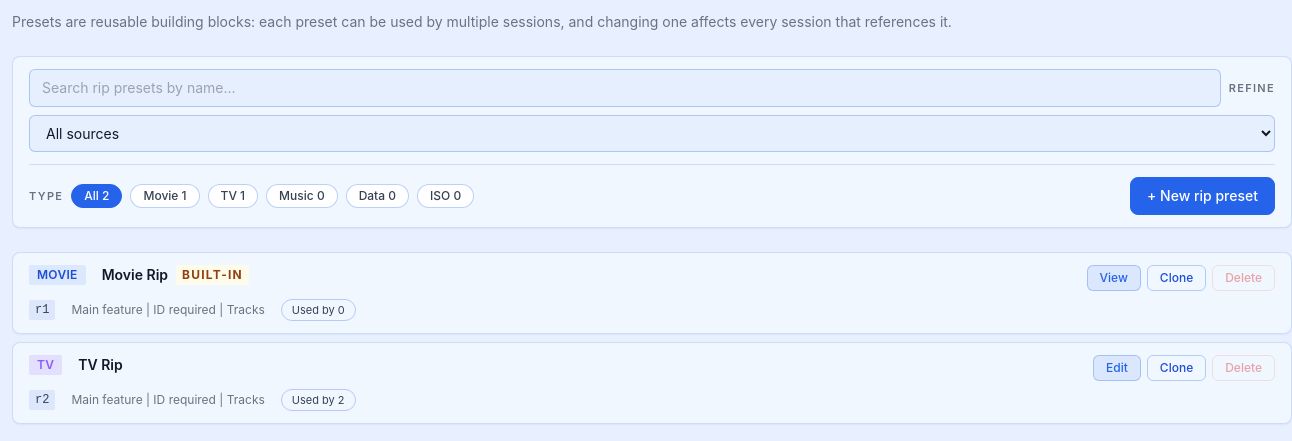
it: media-type chip narrows rip presets section
// Click TV chip — Movie Rip should disappear, TV Rip should remain
Click the button "TV 1": click(233, 196) [208, 184, 258, 208]
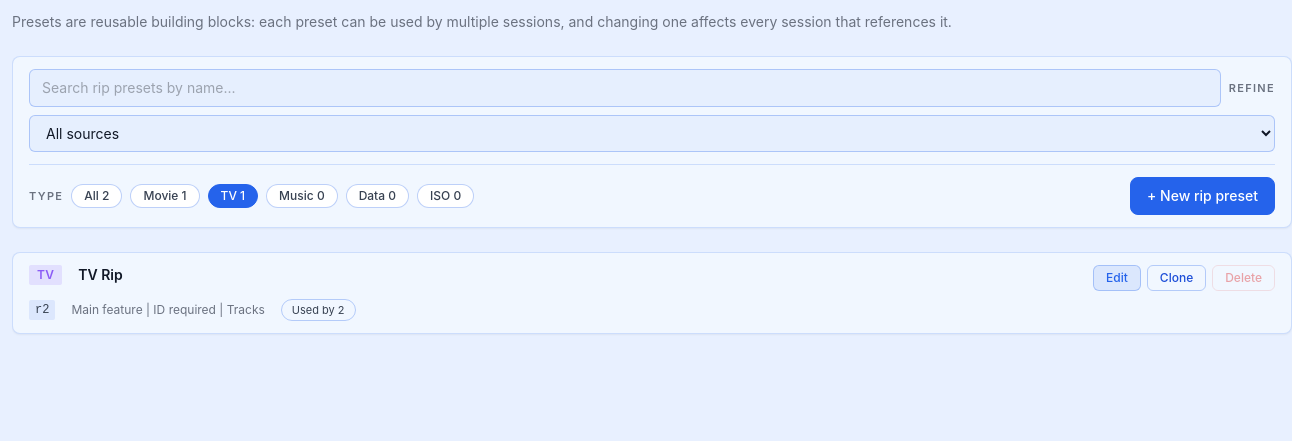
Expected: the text "TV Rip" is shown, [78, 265, 123, 285]
Now the text "Movie Rip" is gone
